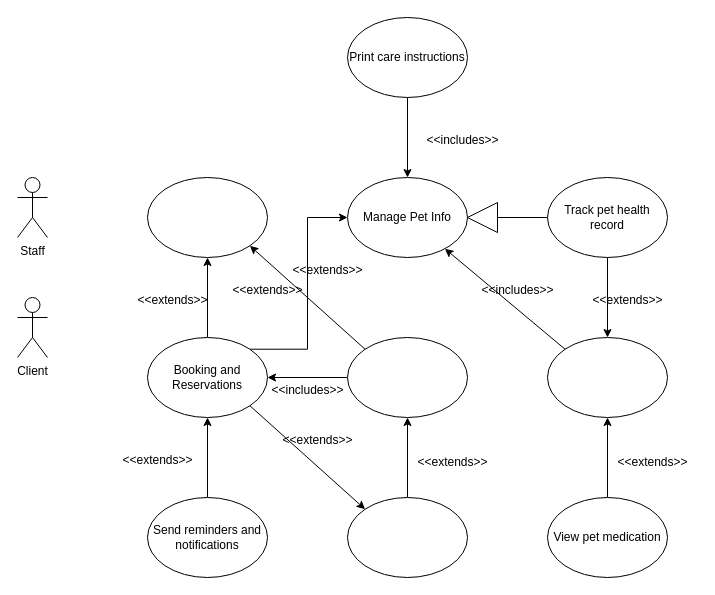
This 715x595 diagram has some shape labels left out. The shapes that lost their labels are listed below. From the top down, each one's centre as x and y in pixels, then its label:
At point (207, 217): "Manage Client Info".
At point (407, 377): "view client payments".
At point (607, 377): "view pet profile".
At point (407, 537): "Billing and Payments".
